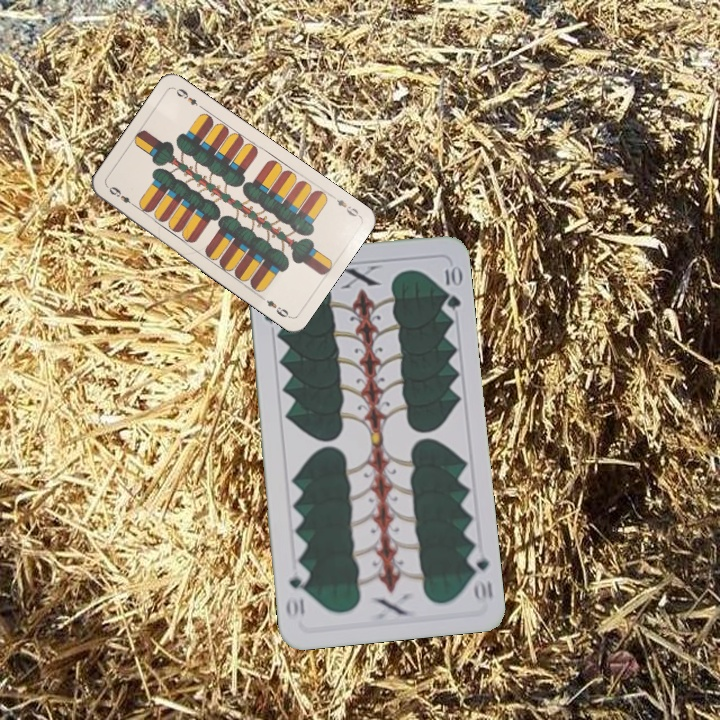E9: (104, 182, 139, 210), (327, 191, 362, 219)
G10: (464, 546, 496, 606)
